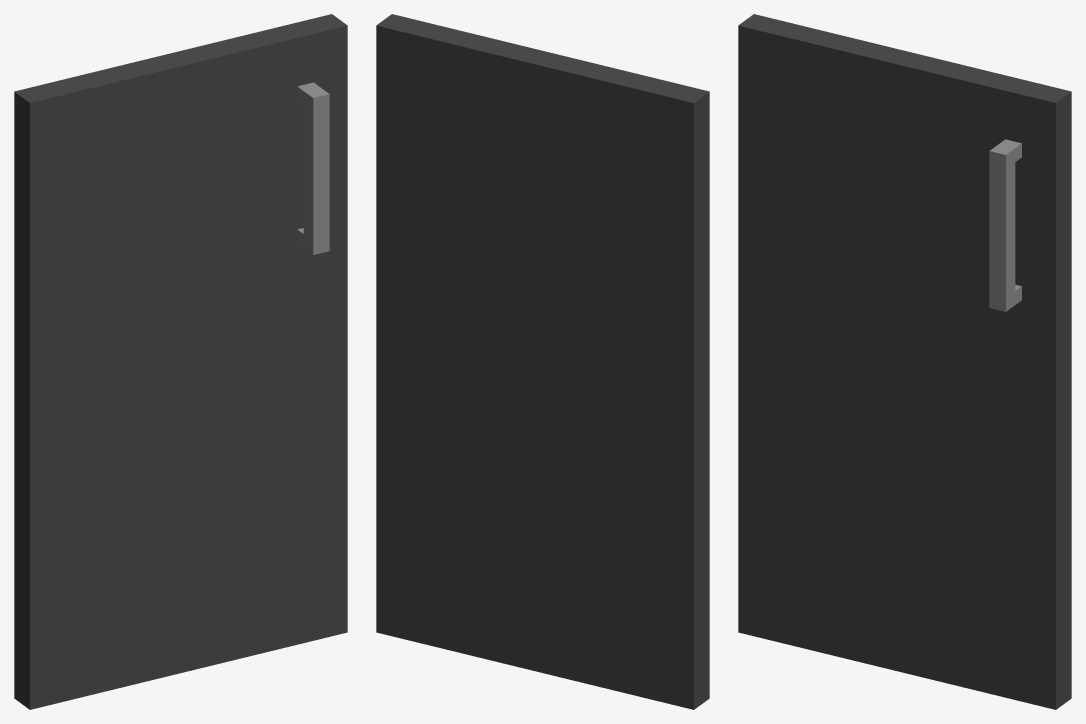
The model's file is Door1_C3_10.fbx.
3 views of the same model, side by side, from view 1: azimuth 30°, elevation 25°; view 2: azimuth 150°, elevation 25°; view 3: azimuth 330°, elevation 25° (orthographic).
Visible parts, largest first — view 1: Door1_C3_10; view 2: Door1_C3_10; view 3: Door1_C3_10.
Part boxes in pixels (x1,y1,x2,y2): Door1_C3_10: (14, 14, 347, 709); Door1_C3_10: (376, 14, 709, 709); Door1_C3_10: (738, 14, 1071, 709).
Size of the model in its own units: 29 by 52.92 by 5.03.
